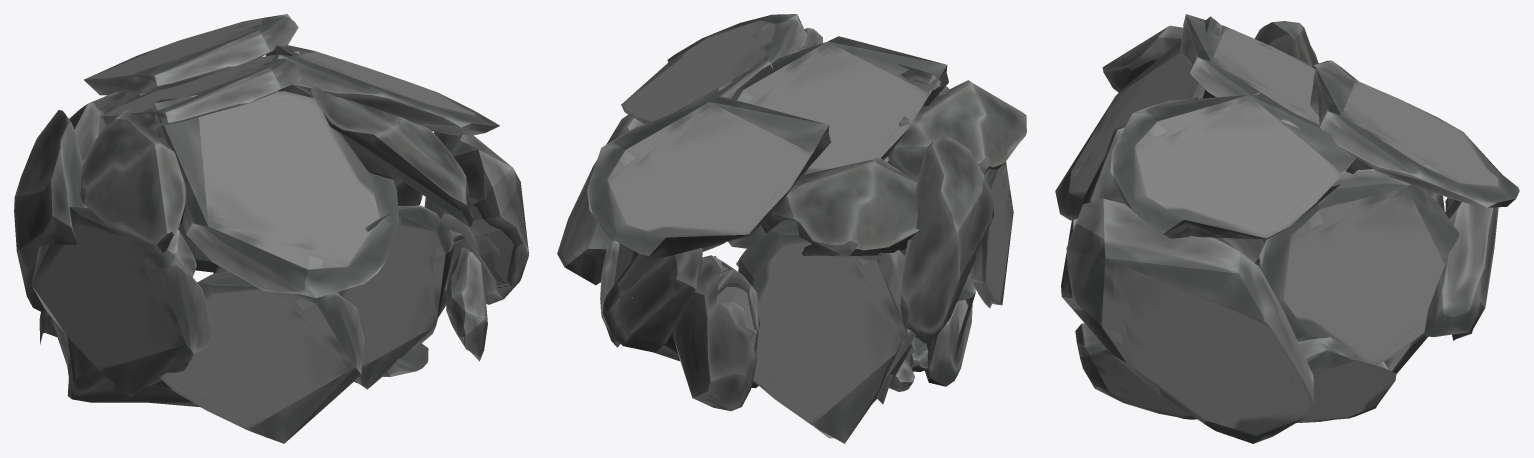
The model's file is stoneCave.fbx.
The picture shows the model from 3 angles, left to right: view 1: azimuth 30°, elevation 25°; view 2: azimuth 150°, elevation 25°; view 3: azimuth 270°, elevation 25°; orthographic projection. The views are drawn at different scales.
Visible parts, largest first — view 1: Roof, CaveBase; view 2: Roof, CaveBase; view 3: CaveBase, Roof.
Part boxes in pixels (x1,y1,x2,y2): Roof: [14, 14, 499, 311]; CaveBase: [31, 84, 528, 443]; Roof: [587, 14, 1026, 343]; CaveBase: [557, 114, 1013, 443]; CaveBase: [1061, 161, 1498, 443]; Roof: [1055, 14, 1519, 239].
Size of the model in its own units: 42037 by 31656 by 40856.
